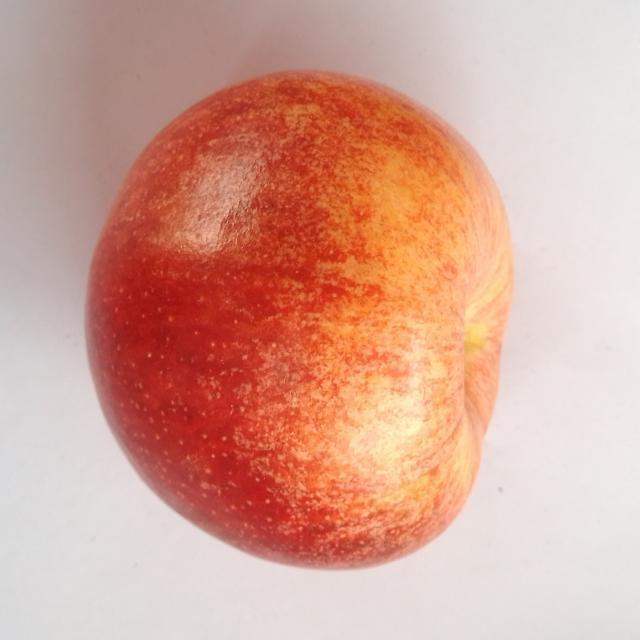Fresh Apple: (88, 72, 510, 565)
